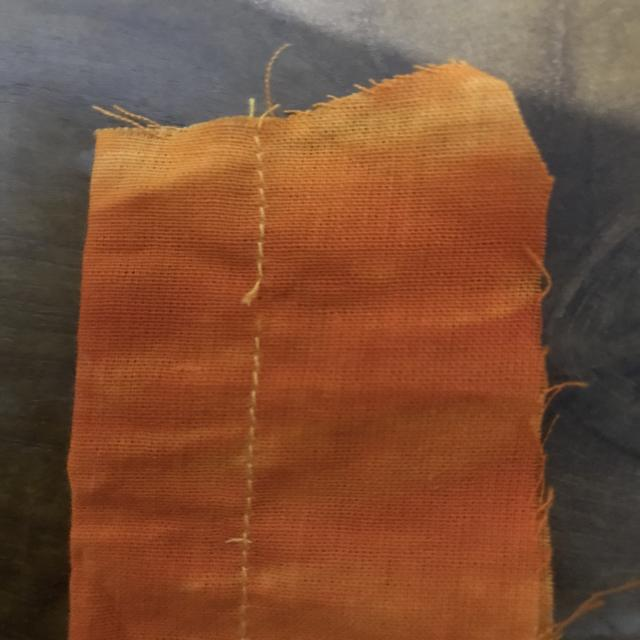broken: (222, 268, 278, 348)
good: (233, 378, 267, 492)
